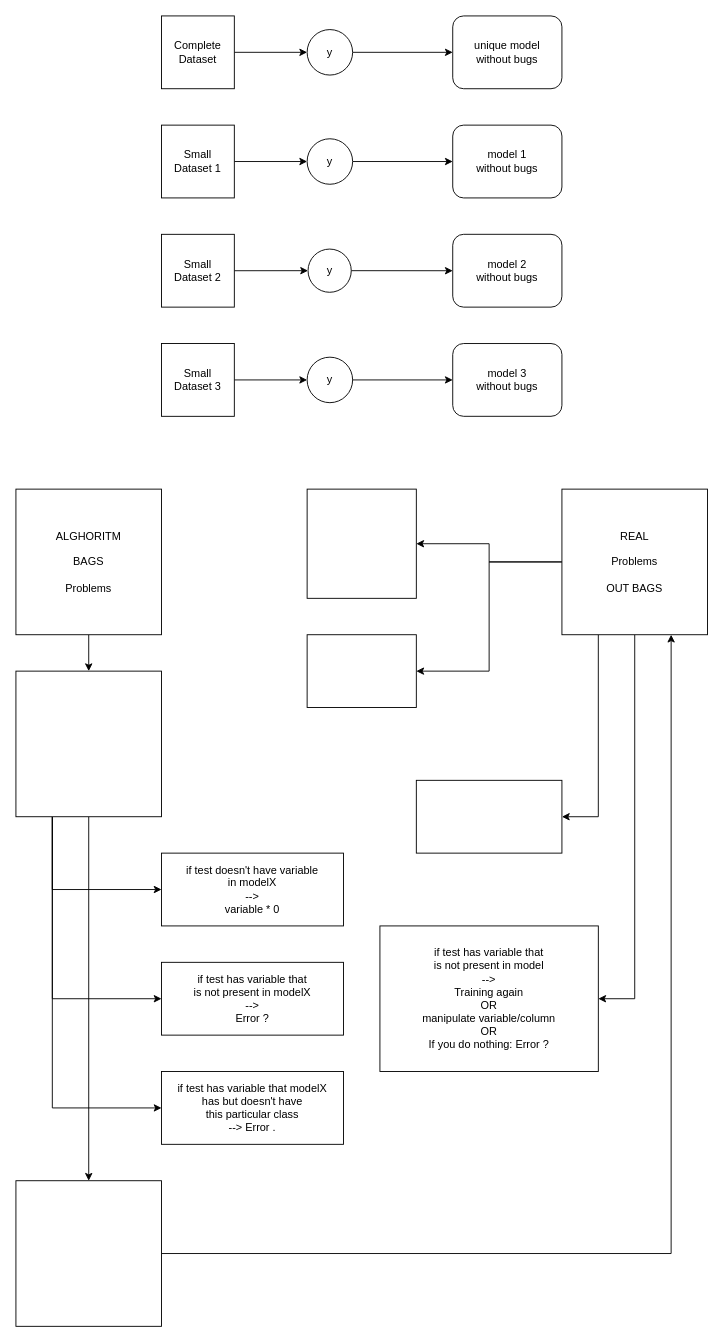
The diagram is 723 pixels wide and 1342 high, and some of its shapes have lost their labels. The shapes that lost their labels are listed below. From the top down, each one's centre as x and y in pixels, then its label:
point (361, 543): TESTset
point (361, 671): unique model
point (88, 743): MIDDEL STEP TEST other model So : mixing
point (488, 816): if test doesn't have variable in model --> variable * 0
point (88, 1253): Final Step
